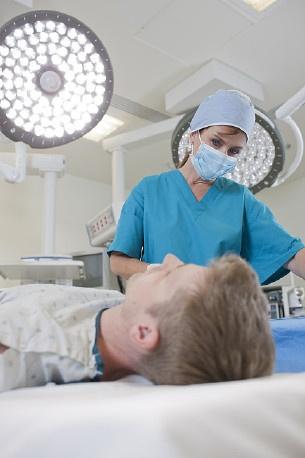Mask: (187, 126, 245, 185)
